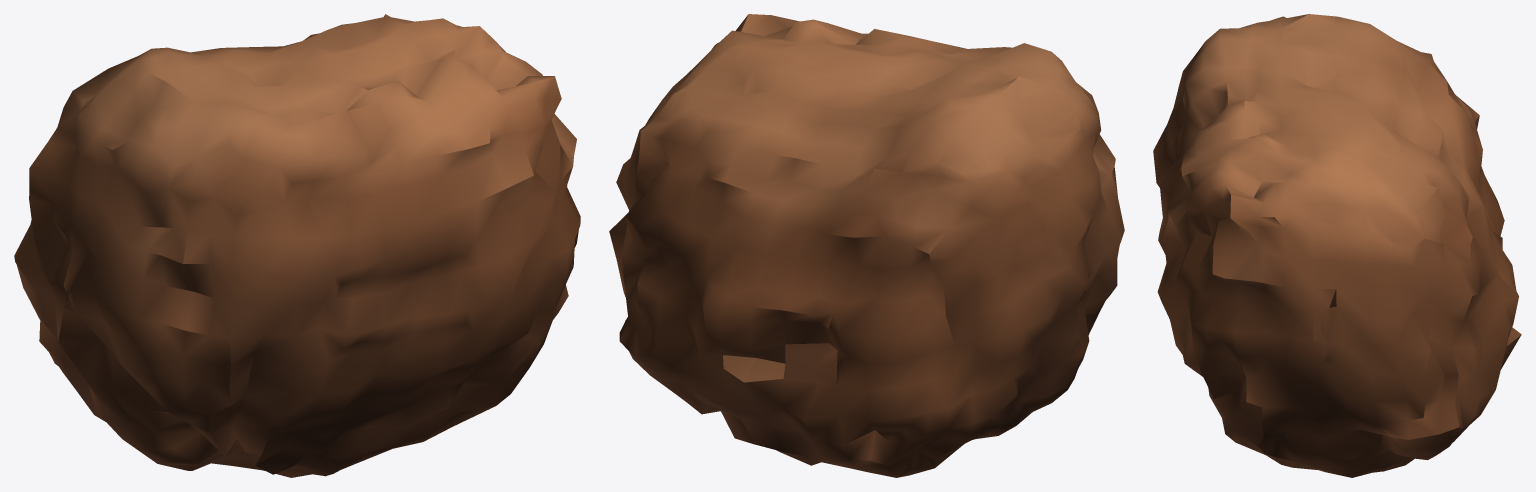
File: canopy_bark_chip.glb
The picture shows the model from 3 angles, left to right: view 1: azimuth 30°, elevation 25°; view 2: azimuth 150°, elevation 25°; view 3: azimuth 270°, elevation 25°; orthographic projection. The views are drawn at different scales.
Parts seen in each view (by area): view 1: canopy_bark_chip; view 2: canopy_bark_chip; view 3: canopy_bark_chip.
Boxes of the visible parts, x1,y1,x2,y2 form: canopy_bark_chip: (14,14,580,477); canopy_bark_chip: (609,14,1124,477); canopy_bark_chip: (1153,14,1521,477).
Size of the model in its own units: 4.1 by 3.41 by 3.08.
